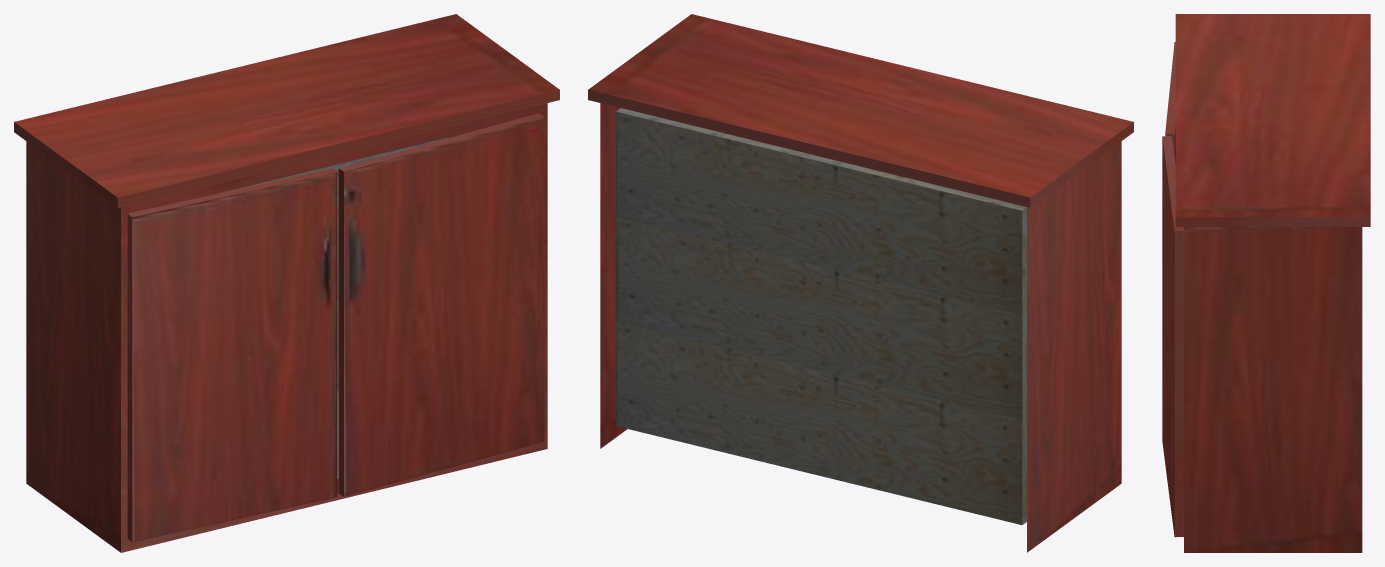
Rendered from office_cabinet.FBX.
3 renders of one model, left to right at view 1: azimuth 30°, elevation 25°; view 2: azimuth 150°, elevation 25°; view 3: azimuth 270°, elevation 25°, orthographic. The views are drawn at different scales.
Parts seen in each view (by area): view 1: office_cabinet_main, office_cabinet_door_R, office_cabinet_door_L; view 2: office_cabinet_main; view 3: office_cabinet_main, office_cabinet_door_L, office_cabinet_door_R.
Part boxes in pixels (left/top/right/bottom): office_cabinet_main: left=14, top=14, right=559, bottom=552; office_cabinet_door_R: left=127, top=168, right=337, bottom=542; office_cabinet_door_L: left=338, top=113, right=544, bottom=496; office_cabinet_main: left=588, top=14, right=1133, bottom=552; office_cabinet_main: left=1175, top=14, right=1370, bottom=552; office_cabinet_door_L: left=1162, top=136, right=1183, bottom=537; office_cabinet_door_R: left=1165, top=42, right=1183, bottom=229.
Size of the model in its own units: 132 by 103 by 57.2.
